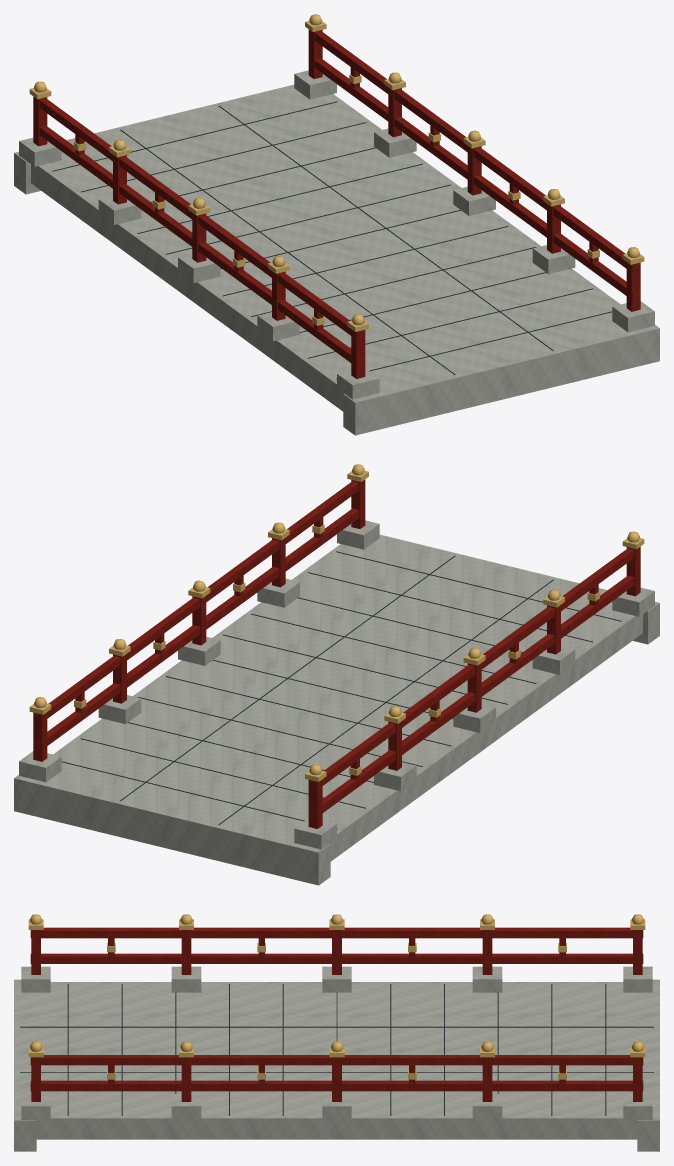
Rendered from bridge.glb.
3 views of the same model, one above another, from view 1: azimuth 30°, elevation 25°; view 2: azimuth 150°, elevation 25°; view 3: azimuth 270°, elevation 25° (orthographic). The views are drawn at different scales.
Parts seen in each view (by area): view 1: bridge_Temple_Worn_Pale_Stone, bridge_Temple_Red_Timber, bridge_Temple_Dark_Ridge_and_Iron, bridge_Temple_Antique_Gold; view 2: bridge_Temple_Worn_Pale_Stone, bridge_Temple_Red_Timber, bridge_Temple_Dark_Ridge_and_Iron, bridge_Temple_Antique_Gold; view 3: bridge_Temple_Worn_Pale_Stone, bridge_Temple_Red_Timber, bridge_Temple_Dark_Ridge_and_Iron, bridge_Temple_Antique_Gold.
Part boxes in pixels (x1,y1,x2,y2): bridge_Temple_Worn_Pale_Stone: (14, 70, 659, 435); bridge_Temple_Red_Timber: (33, 29, 640, 378); bridge_Temple_Dark_Ridge_and_Iron: (52, 101, 612, 379); bridge_Temple_Antique_Gold: (29, 14, 644, 331); bridge_Temple_Worn_Pale_Stone: (14, 520, 659, 885); bridge_Temple_Red_Timber: (33, 479, 640, 828); bridge_Temple_Dark_Ridge_and_Iron: (61, 551, 621, 829); bridge_Temple_Antique_Gold: (29, 464, 644, 781); bridge_Temple_Worn_Pale_Stone: (14, 966, 659, 1151); bridge_Temple_Red_Timber: (30, 927, 643, 1101); bridge_Temple_Dark_Ridge_and_Iron: (20, 984, 653, 1115); bridge_Temple_Antique_Gold: (28, 914, 645, 1079).
Bounding box in the file's own units: 6.2 × 2.12 × 12.02.
Materials: 4 (2 with a texture image).
